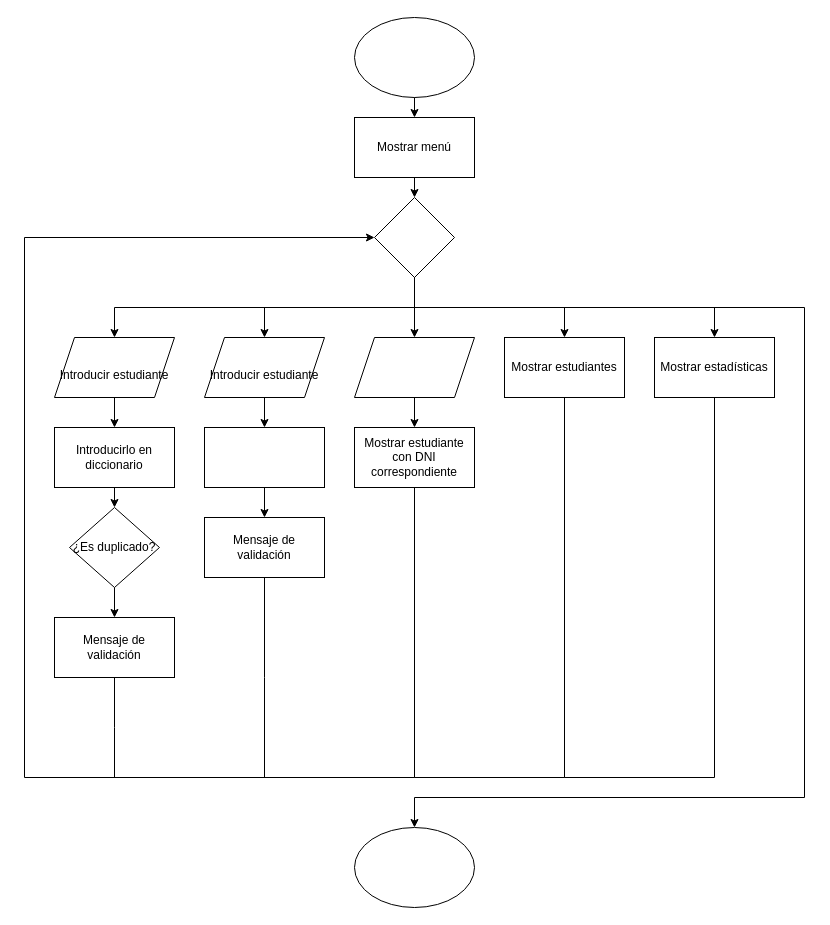
Some shapes in this 830 by 925 pixel diagram are drawn without their labels. The shapes that lost their labels are listed below. From the top down, each one's centre as x and y in pixels, then its label:
the point at 414,57: Inicio
the point at 414,237: Elegir opción
the point at 414,367: Introducir DNI
the point at 264,457: Eliminar del diccionario
the point at 414,867: Salir
